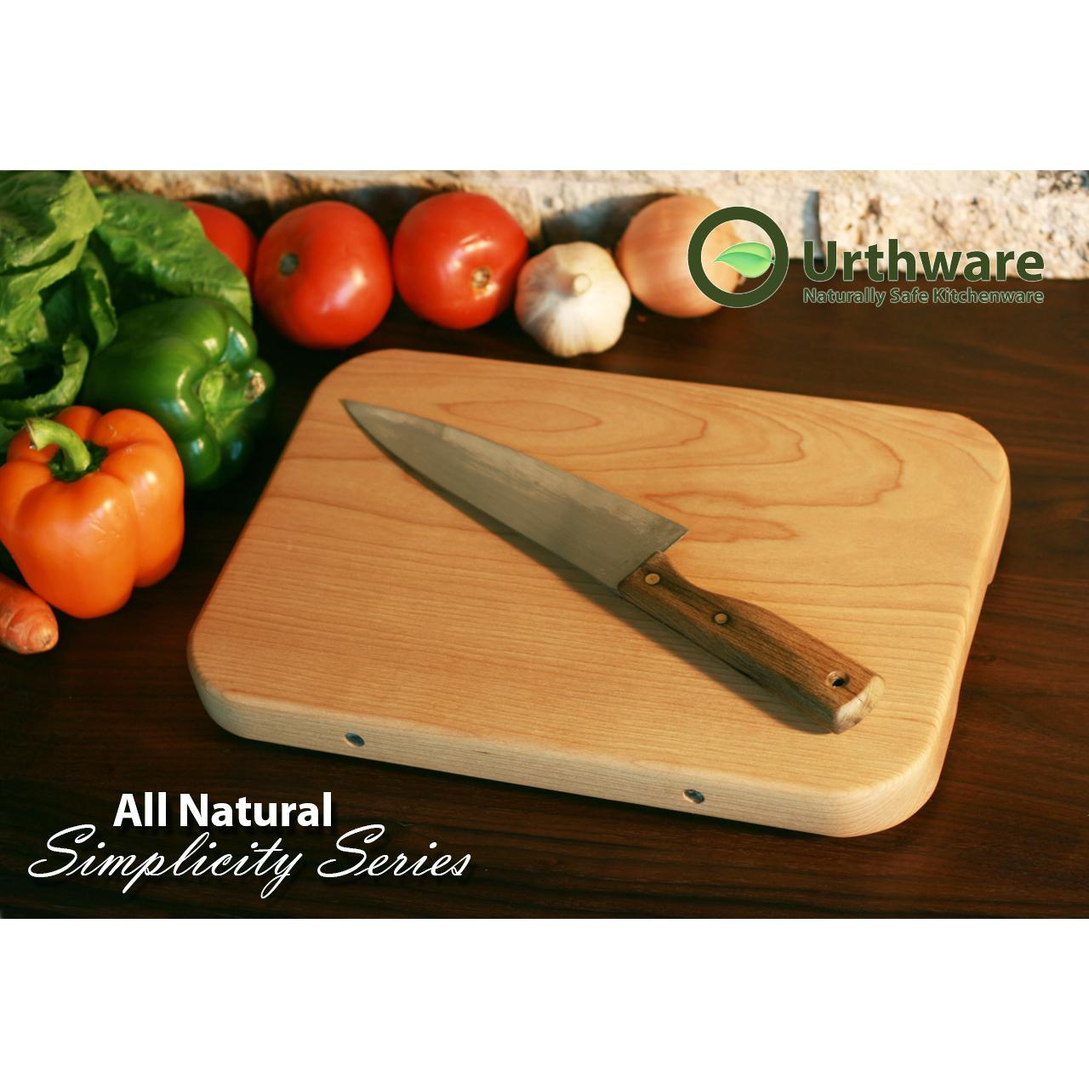gloved_hand: (193, 341, 1011, 845)
